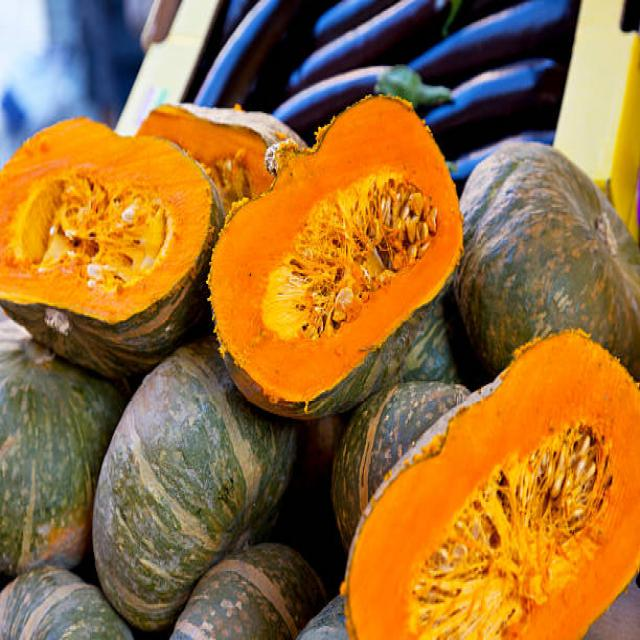Pumpkin: (348, 337, 640, 640), (209, 102, 456, 406), (0, 108, 212, 350), (460, 140, 640, 339)
